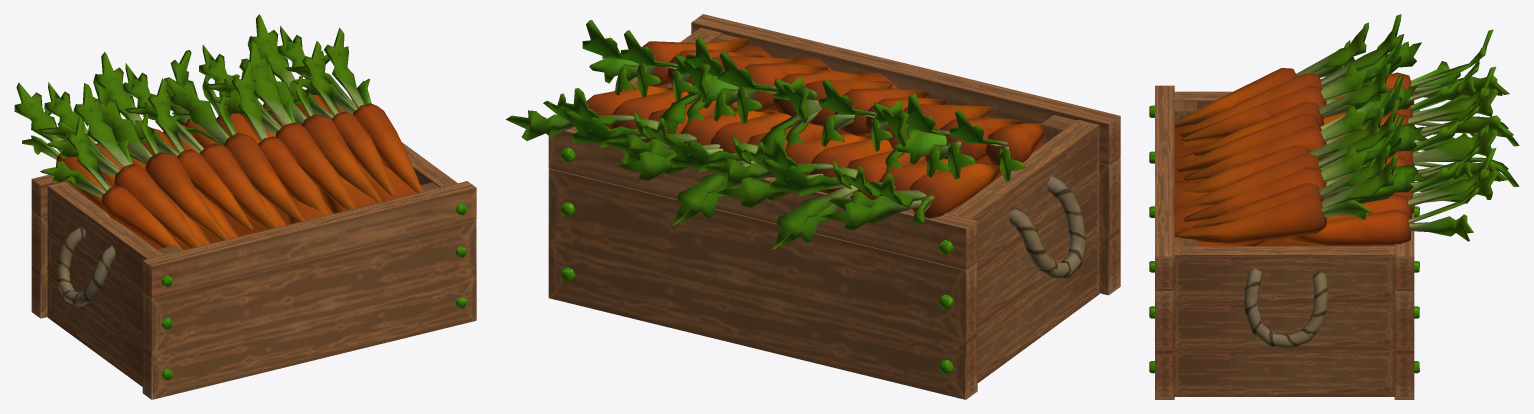
The model's file is FarmCrate_Carrot.glb.
3 renders of one model, left to right at view 1: azimuth 30°, elevation 25°; view 2: azimuth 150°, elevation 25°; view 3: azimuth 270°, elevation 25°, orthographic. The views are drawn at different scales.
Visible parts, largest first — view 1: FarmCrate_Carrot; view 2: FarmCrate_Carrot; view 3: FarmCrate_Carrot.
Boxes of the visible parts, bbox=[...] form: FarmCrate_Carrot: bbox=[14, 14, 476, 399]; FarmCrate_Carrot: bbox=[506, 14, 1120, 399]; FarmCrate_Carrot: bbox=[1149, 14, 1519, 399].
Size of the model in its own units: 0.7138 by 0.4113 by 0.567.
3 materials, 3 textured.
